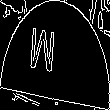M_S: (40, 27, 70, 83)
